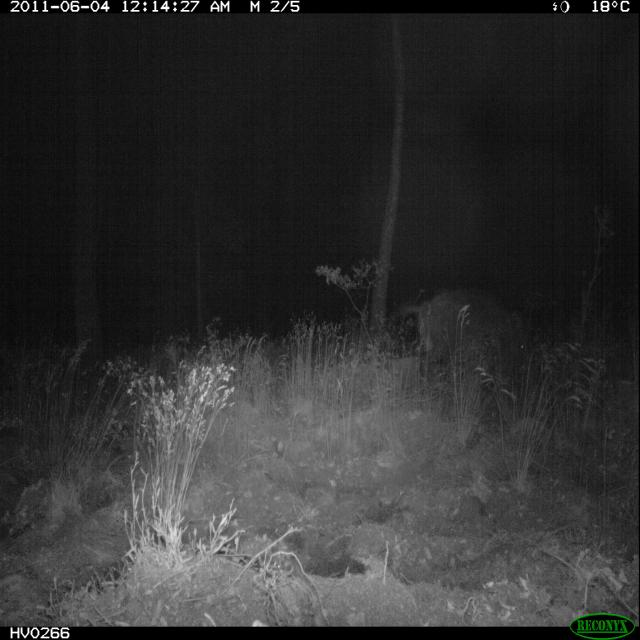boar: (392, 271, 490, 390)
